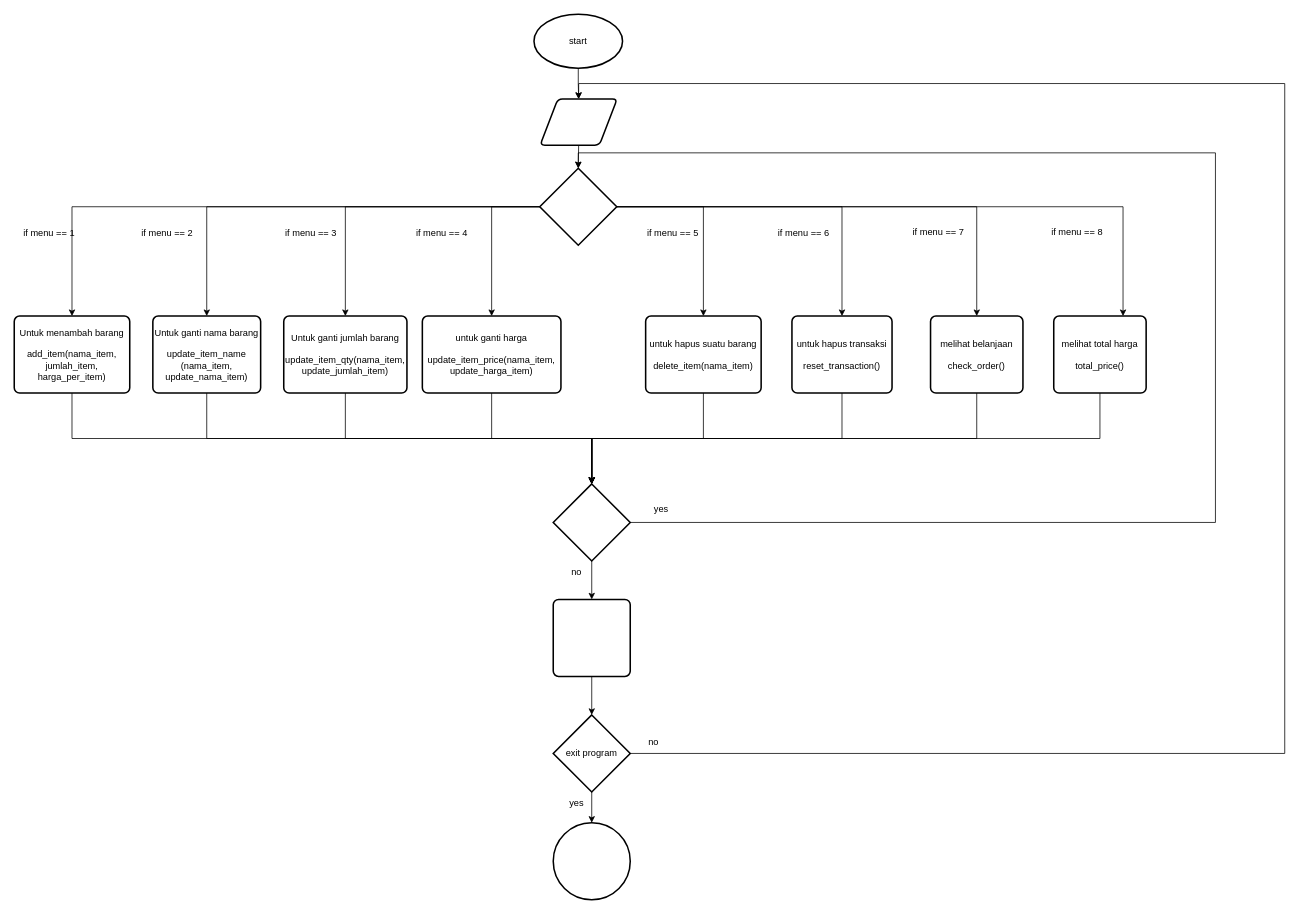
Some shapes in this 1304 by 913 pixel diagram are drawn without their labels. Each missing label, with the centre of its shape:
"finish" belongs at (591,861).
"input id" belongs at (578,122).
"input menu" belongs at (578,206).
"ke menu lain?" belongs at (591,522).
"payment" belongs at (591,637).
